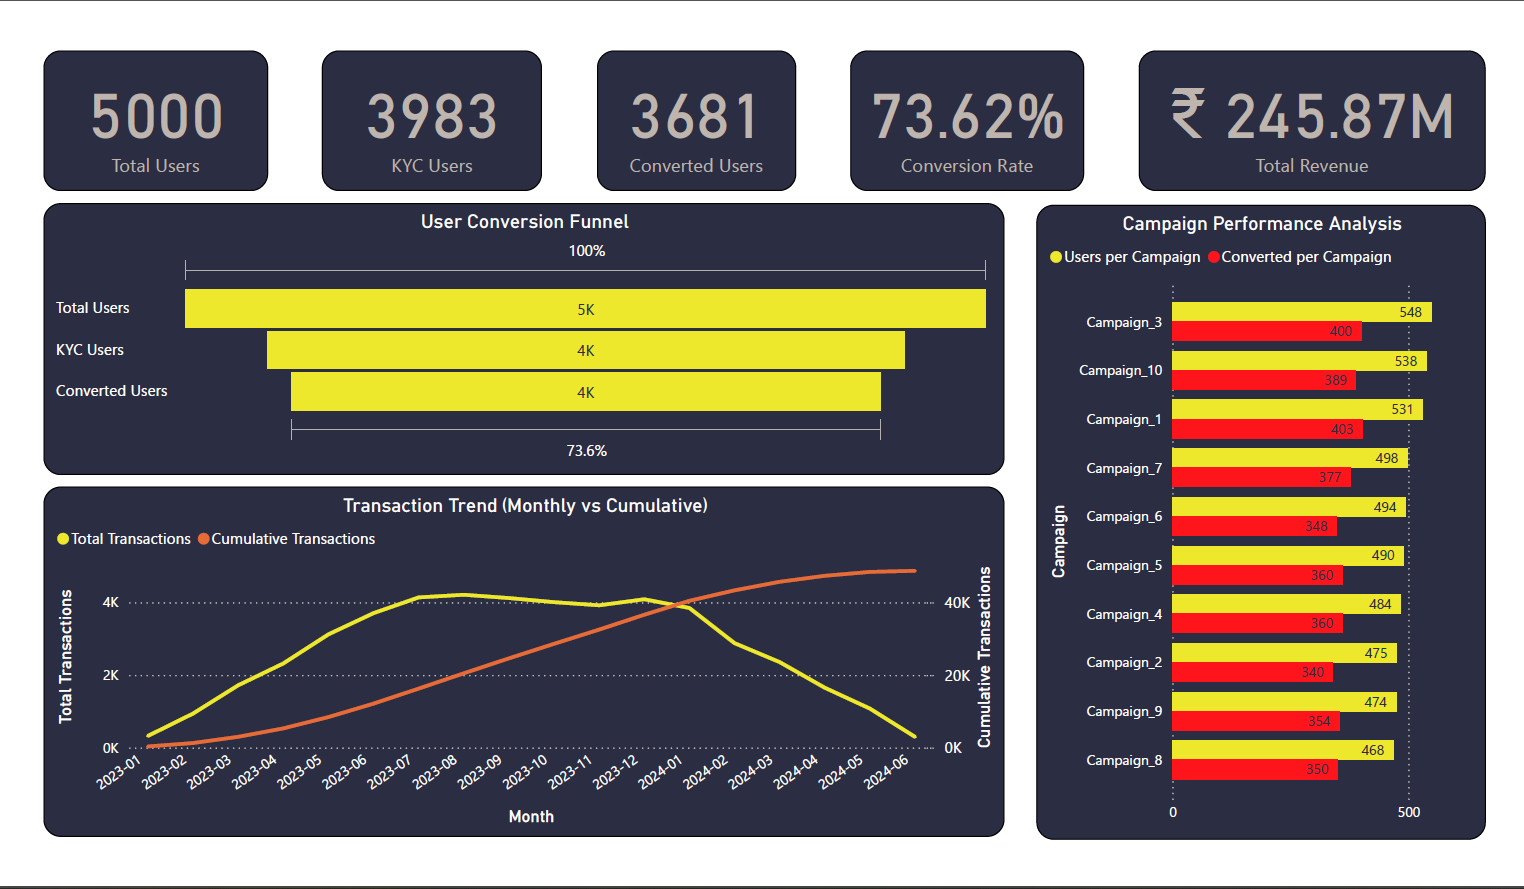

Layout of this report page (visuals, bound fields, positions):
{"tool":"powerbi","page":{"name":"Business Performance Overview","canvas":[1280,720],"ordinal":0},"visuals":[{"type":"card","fields":{"Values":["campaigns_cleaned.Total Users"]},"box":[15.2,18.6,194.6,121.9],"z":0},{"type":"card","fields":{"Values":["campaigns_cleaned.KYC Users"]},"box":[256.8,18.6,191.2,121.9],"z":1000},{"type":"card","fields":{"Values":["campaigns_cleaned.Converted Users"]},"box":[495,18.6,172.6,121.9],"z":2000},{"type":"card","fields":{"Values":["campaigns_cleaned.Conversion Rate"]},"box":[714.6,18.6,203.1,121.9],"z":3000},{"type":"card","fields":{"Values":["campaigns_cleaned.Total Revenue"]},"box":[964.7,18.6,301.2,121.9],"z":4000},{"type":"funnel","title":"User Conversion Funnel","fields":{"Y":["campaigns_cleaned.Total Users","campaigns_cleaned.KYC Users","campaigns_cleaned.Converted Users"]},"box":[14.9,151.9,833.7,236.1],"z":5000},{"type":"clusteredBarChart","title":"Campaign Performance Analysis","fields":{"Category":["campaigns_cleaned.campaign_name"],"Y":["campaigns_cleaned.Users per Campaign","campaigns_cleaned.Converted per Campaign"]},"box":[876,152.2,390.2,550.5],"z":6000},{"type":"lineChart","title":"Transaction Trend (Monthly vs Cumulative)","fields":{"Y":["campaigns_cleaned.Total Transactions"],"Category":["DateTable.Month"],"Y2":["transactions_cleaned.Cumulative Transactions"]},"box":[14.6,397.4,834,304.2],"z":7000}]}

Visuals, with their boxes on the page's 1280x720 design canvas (x1, y1, x2, y2). These are canvas units, not pixel positions in the 1524x889 screenshot, which may show the page scaled, cropped or inside an application window:
card - campaigns_cleaned.Total Users: 15 19 210 140
card - campaigns_cleaned.KYC Users: 257 19 448 140
card - campaigns_cleaned.Converted Users: 495 19 668 140
card - campaigns_cleaned.Conversion Rate: 715 19 918 140
card - campaigns_cleaned.Total Revenue: 965 19 1266 140
"User Conversion Funnel" funnel: 15 152 849 388
"Campaign Performance Analysis" clusteredBarChart: 876 152 1266 703
"Transaction Trend (Monthly vs Cumulative)" lineChart: 15 397 849 702
